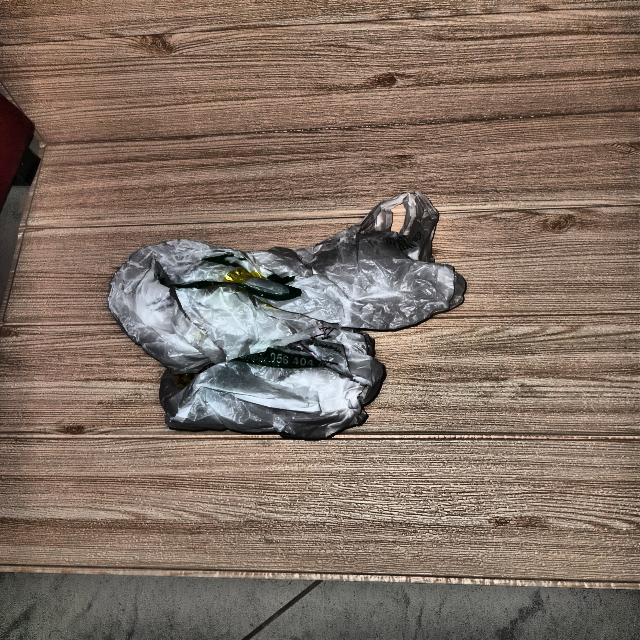plastic bag: (115, 186, 464, 437)
